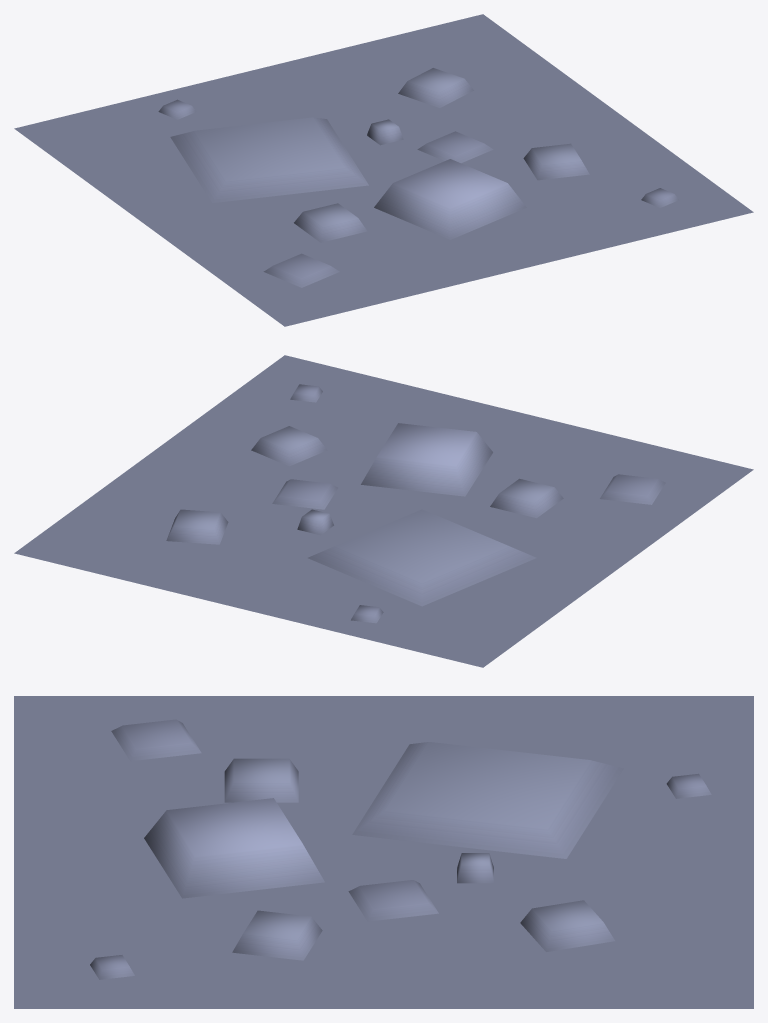
The model's file is floor-detail.glb.
3 renders of one model, top to bottom at view 1: azimuth 30°, elevation 25°; view 2: azimuth 150°, elevation 25°; view 3: azimuth 270°, elevation 25°, orthographic. The views are drawn at different scales.
Visible parts, largest first — view 1: floor-detail; view 2: floor-detail; view 3: floor-detail.
Boxes of the visible parts, x1,y1,x2,y2 form: floor-detail: (14,14,753,326); floor-detail: (14,355,753,667); floor-detail: (14,696,753,1008).
Size of the model in its own units: 1 by 0.05 by 1.
